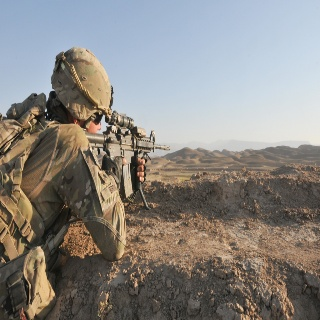rifle: (77, 110, 171, 209)
